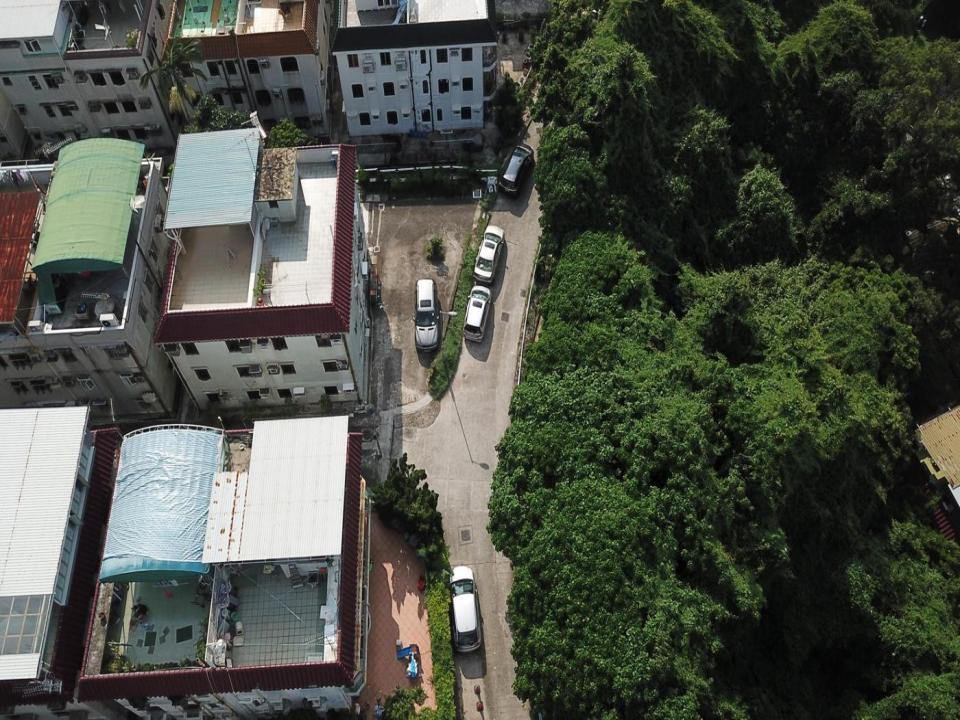car: (449, 564, 482, 653), (472, 225, 506, 283), (499, 143, 534, 198), (413, 278, 439, 352), (462, 284, 492, 344)
